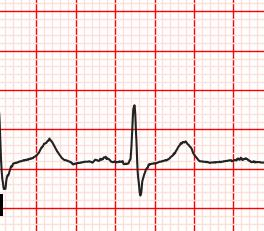ST Depression: (124, 159, 151, 199)
